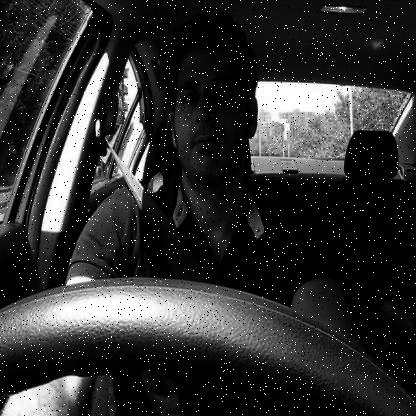seatbelt: (92, 0, 264, 274)
